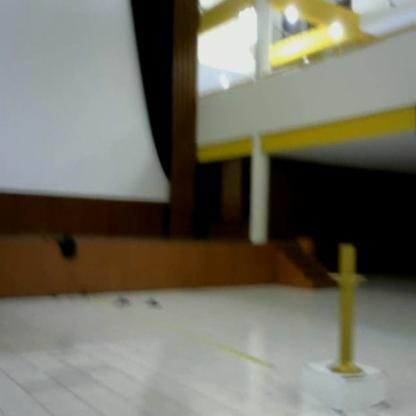pole: (324, 241, 374, 386)
